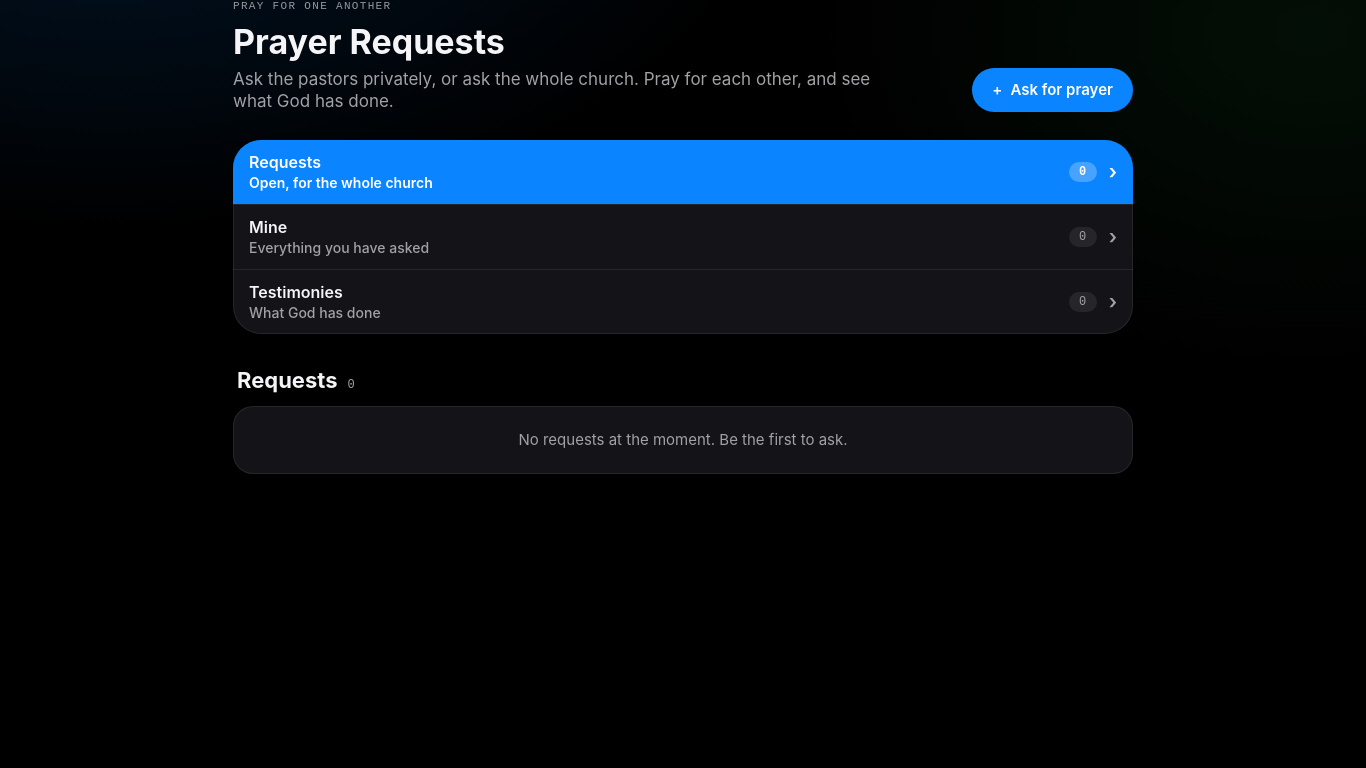
it: asking for prayer › asks the whole church, anonymously if they choose
Step 1. Click the button "+ Ask for prayer" → (1053, 90), box [972,68,1133,112]
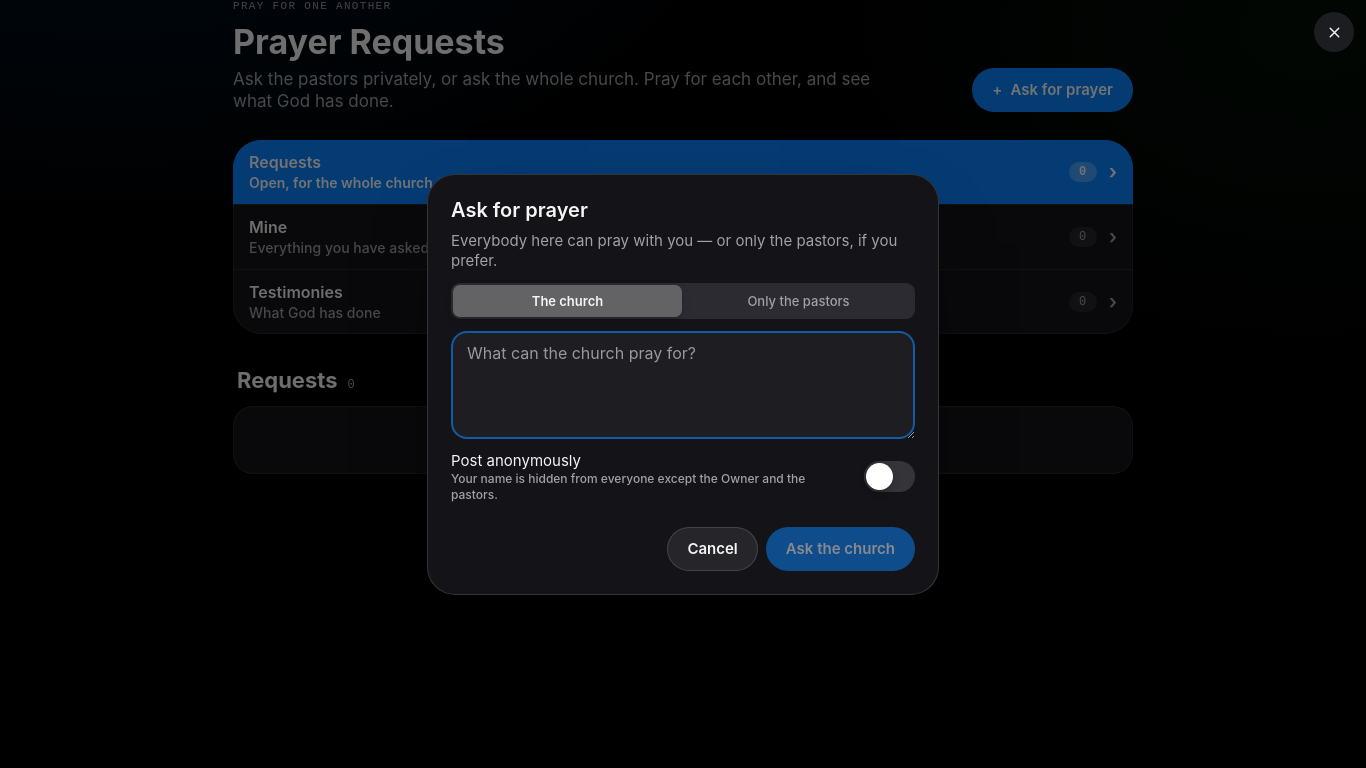
Step 2. Type "For my job interview" into the text box named "What to pray for" → (683, 384), box [451,330,915,438]
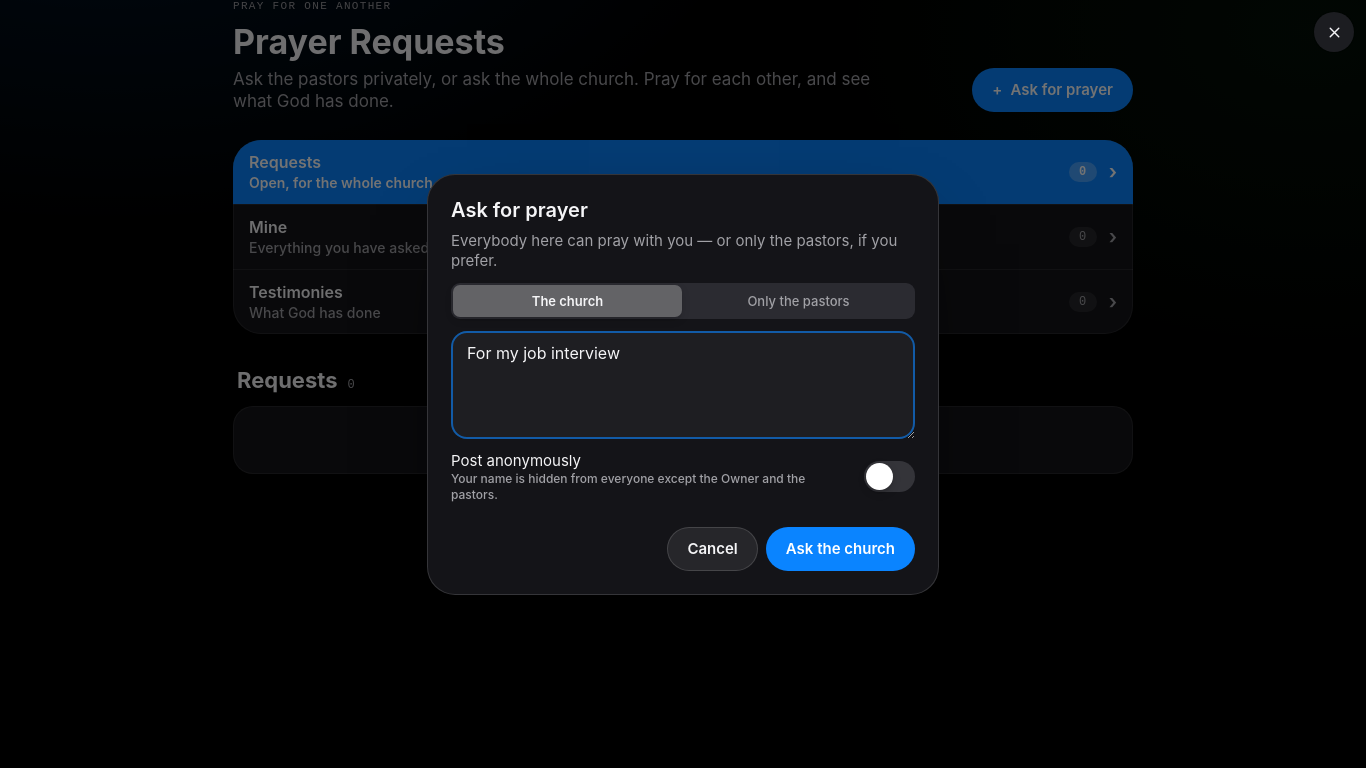
Step 3. Click the switch labelled "Post anonymously" → (683, 476), box [451,450,915,502]
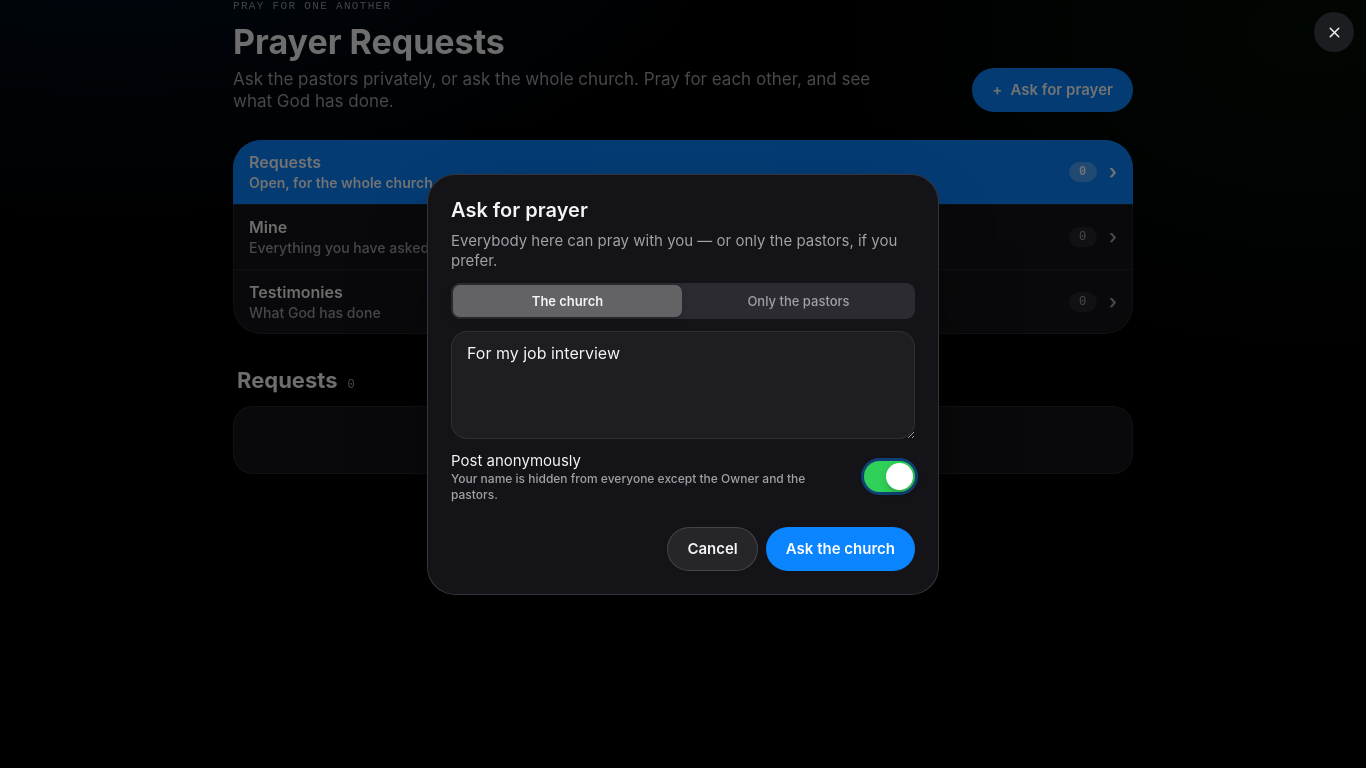
Step 4. Click the button "Ask the church" → (840, 548), box [766,526,915,570]
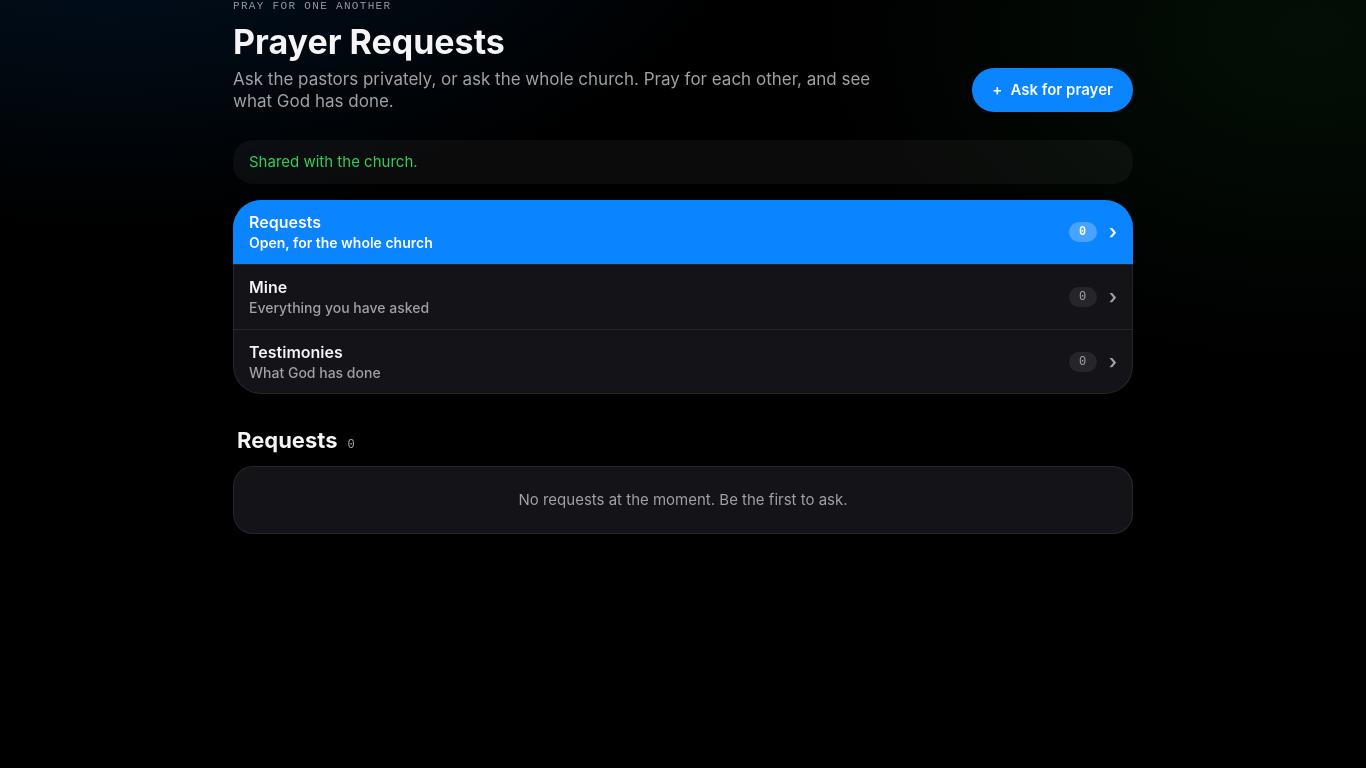
Check: the text "Shared with the church." is shown, box [233,140,1133,184]
